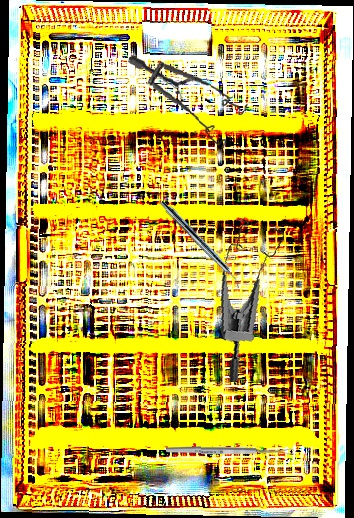Handpiece: (157, 198, 245, 290)
Speculum: (203, 213, 306, 383), (118, 54, 254, 152)
Surgical Spoon: (165, 445, 295, 457)
